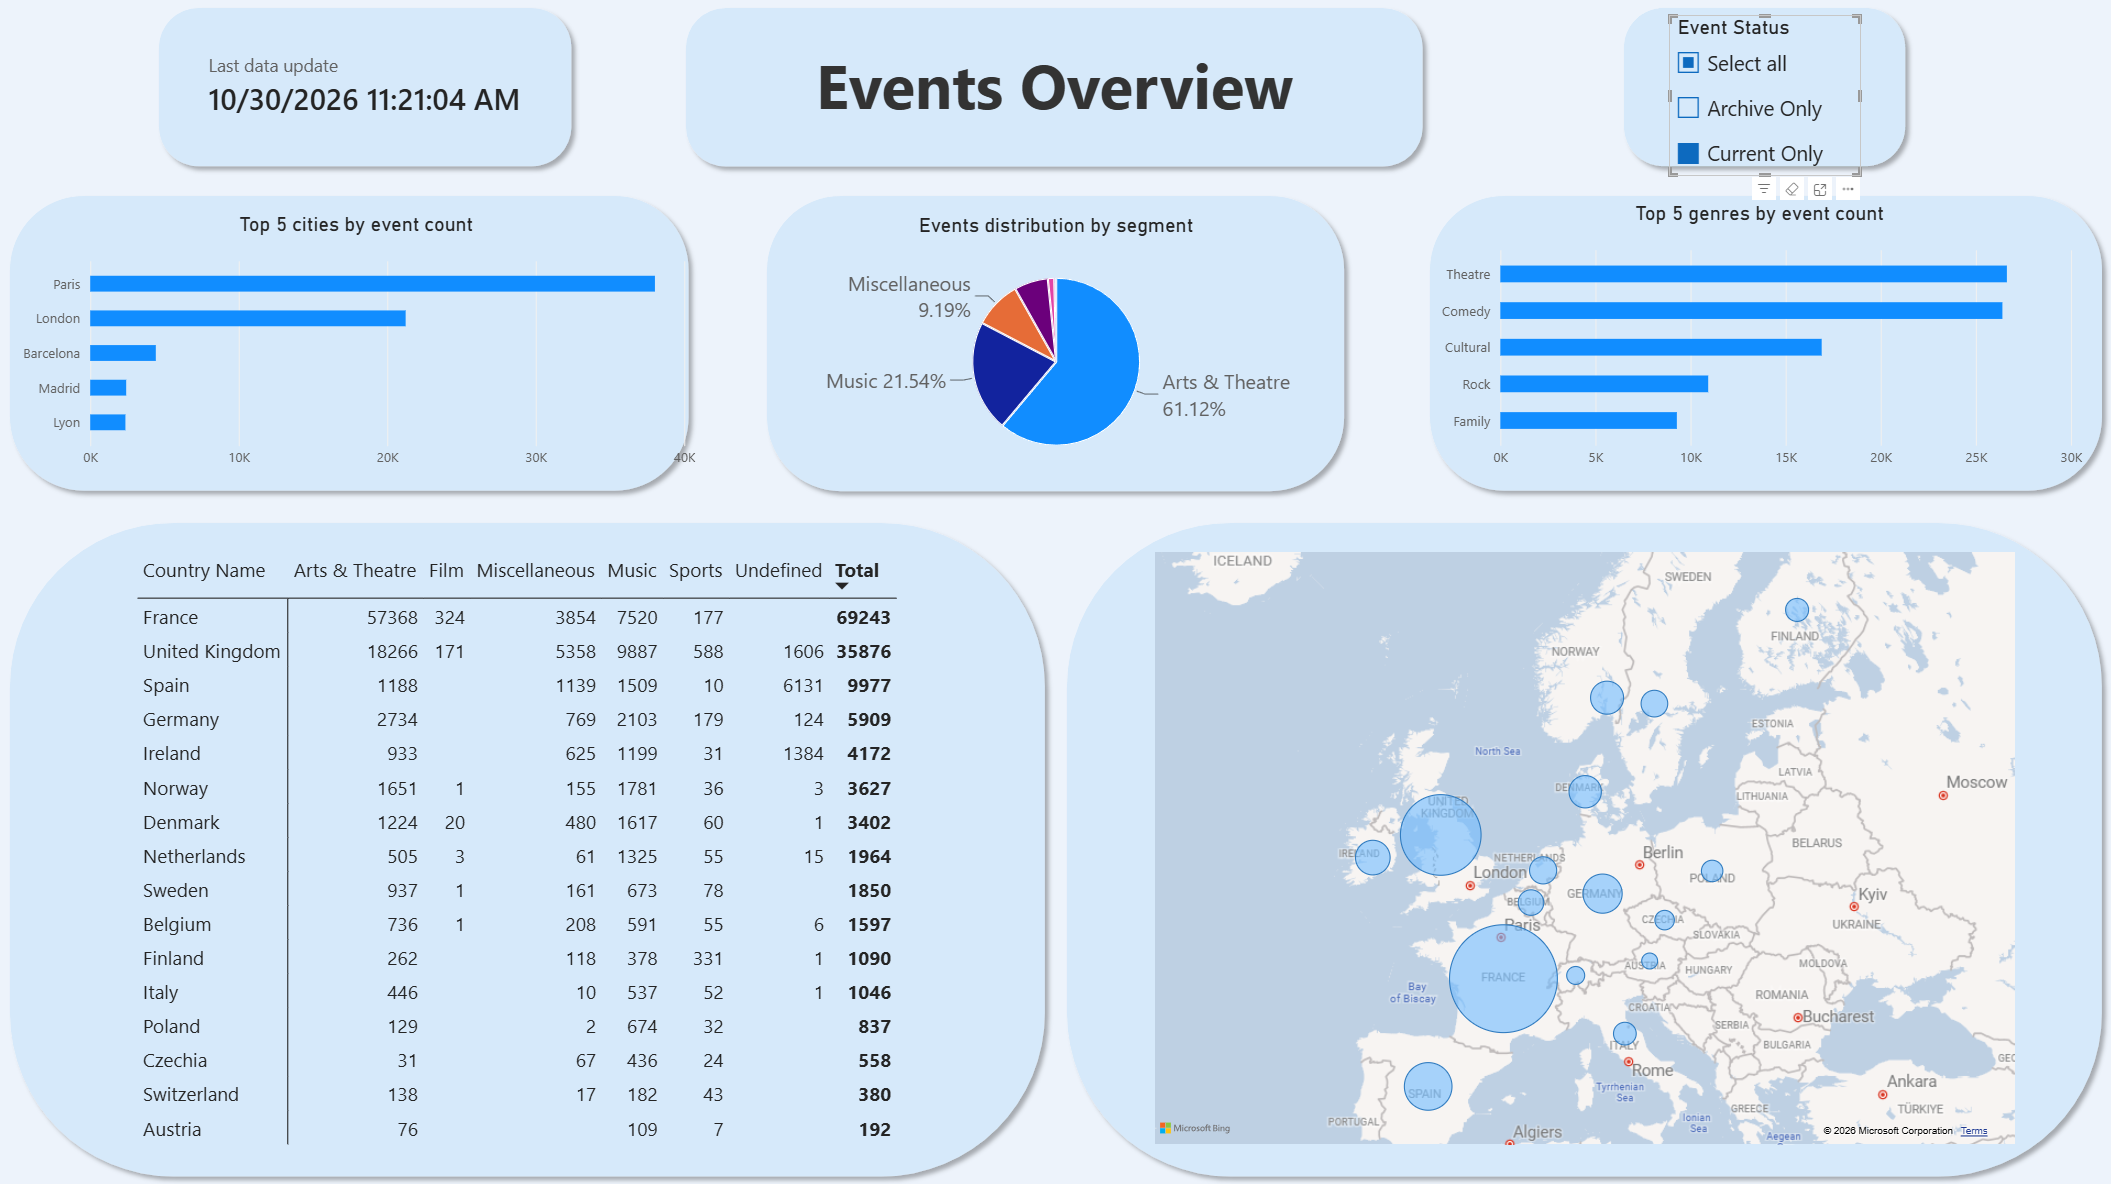

The page's visual inventory and layout, read from the dashboard file:
{"tool":"powerbi","page":{"name":"Events Overview","canvas":[1920,1080],"ordinal":0},"visuals":[{"type":"group","id":"g1","title":"back","box":[0,0,1920,1080],"z":0},{"type":"barChart","title":"Top 5 genres by event count","fields":{"Category":["dim_segment_genre_subgenre.classification_genre"],"Y":["_measures.event_count"]},"box":[1291.1,171.2,617.8,275.6],"z":0,"group":"g2"},{"type":"shape","box":[0,467.8,958.9,612.2],"z":0,"group":"g1"},{"type":"shape","box":[1291,171,629,286],"z":1000,"group":"g1"},{"type":"group","id":"g2","title":"cards","box":[0,171.2,1908.9,275.8],"z":1000},{"type":"barChart","title":"Top 5 cities by event count","fields":{"Category":["dim_venue_location.venue_city"],"Y":["_measures.event_count"]},"box":[0,181,648,266],"z":1000,"group":"g2"},{"type":"cardVisual","fields":{"Data":["_measures.last_update"]},"box":[173.4,41,318,79],"z":2000},{"type":"pieChart","title":"Events distribution by segment","fields":{"Category":["dim_segment_genre_subgenre.classification_segment"],"Y":["_measures.event_count"]},"box":[706,182,507.6,262.7],"z":2000,"group":"g2"},{"type":"shape","box":[961.1,467.8,958.9,612.2],"z":2000,"group":"g1"},{"type":"shape","box":[688,171,542.8,286.4],"z":3000,"group":"g1"},{"type":"pivotTable","fields":{"Columns":["dim_segment_genre_subgenre.classification_segment"],"Rows":["dim_venue_location.venue_country_name"],"Values":["_measures.event_count"]},"box":[109.3,489.3,764,591],"z":3000},{"type":"shape","box":[1467.7,0,273.7,161.9],"z":4000,"group":"g1"},{"type":"azureMap","fields":{"Category":["dim_venue_location.venue_country_name"],"Size":["_measures.event_count"]},"box":[1033.3,490,814.4,567.8],"z":4000},{"type":"slicer","fields":{"Values":["fact_events_archive.edited_is_current"]},"box":[1517.5,15.7,174.6,146.2],"z":5000},{"type":"shape","box":[0,171,635,286],"z":5000,"group":"g1"},{"type":"shape","box":[135.4,0,393,162],"z":6000,"group":"g1"},{"type":"textbox","box":[641.1,41.1,635.6,75.6],"z":6000},{"type":"shape","box":[614.4,0,687.8,162.2],"z":7000,"group":"g1"}]}

Visuals, with their boxes in screenshot pixels (x1, y1, x2, y2), scaled from the page's 1920x1080 canvas onto the 2111x1184 screenshot:
"back" group: [x1=0, y1=0, x2=2110, y2=1183]
"Top 5 genres by event count" barChart: [x1=1420, y1=188, x2=2099, y2=490]
shape: [x1=0, y1=513, x2=1054, y2=1183]
shape: [x1=1419, y1=187, x2=2110, y2=501]
"cards" group: [x1=0, y1=188, x2=2099, y2=490]
"Top 5 cities by event count" barChart: [x1=0, y1=198, x2=712, y2=490]
cardVisual - _measures.last_update: [x1=191, y1=45, x2=540, y2=132]
"Events distribution by segment" pieChart: [x1=776, y1=200, x2=1334, y2=488]
shape: [x1=1057, y1=513, x2=2110, y2=1183]
shape: [x1=756, y1=187, x2=1353, y2=501]
pivotTable - dim_segment_genre_subgenre.classification_segment x dim_venue_location.venue_country_name: [x1=120, y1=536, x2=960, y2=1183]
shape: [x1=1614, y1=0, x2=1915, y2=177]
azureMap - dim_venue_location.venue_country_name x _measures.event_count: [x1=1136, y1=537, x2=2032, y2=1160]
slicer - fact_events_archive.edited_is_current: [x1=1668, y1=17, x2=1860, y2=177]
shape: [x1=0, y1=187, x2=698, y2=501]
shape: [x1=149, y1=0, x2=581, y2=178]
textbox: [x1=705, y1=45, x2=1404, y2=128]
shape: [x1=676, y1=0, x2=1432, y2=178]
